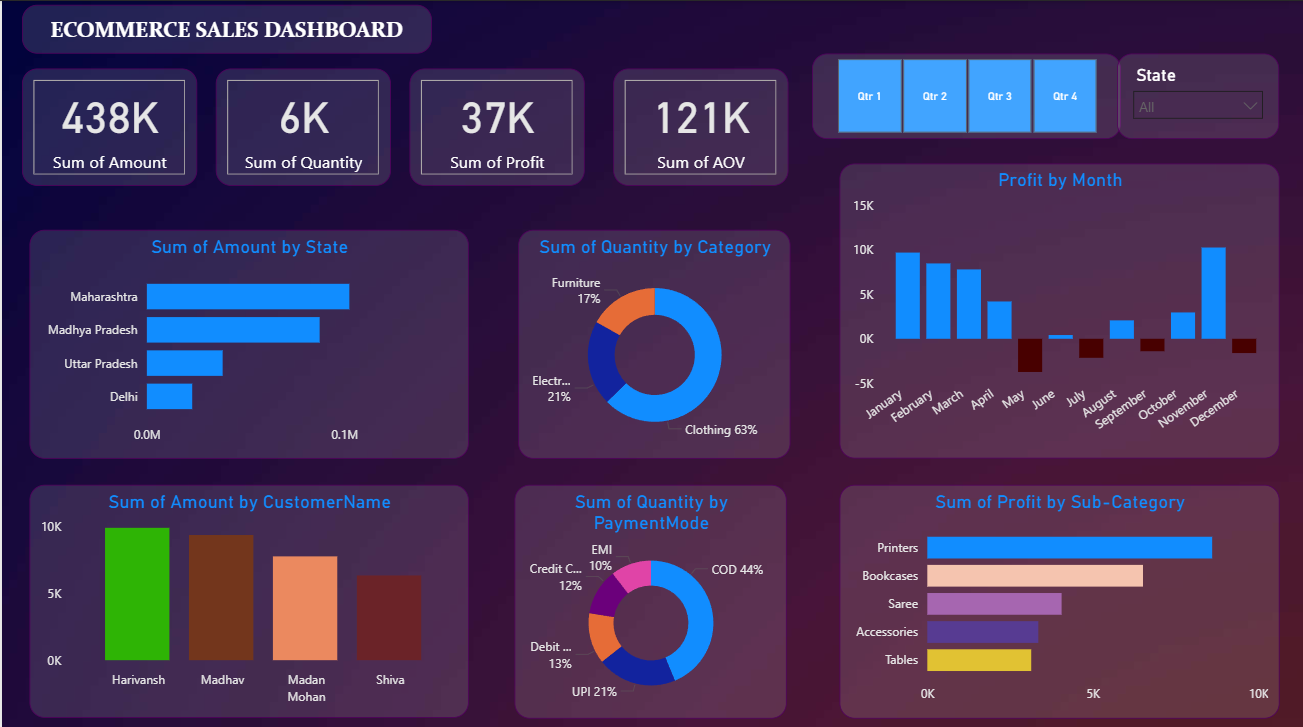

What the dashboard file says about the page in this screenshot:
{"tool":"powerbi","page":{"name":"Page 1","canvas":[1280,720],"ordinal":0},"visuals":[{"type":"textbox","box":[20,4.1,402.1,48],"z":0},{"type":"columnChart","title":"Profit by Month","fields":{"Category":["Orders.Order Date.Variation.Date Hierarchy.Month"],"Y":["Sum(Details.Profit)"]},"box":[822,159.2,432.2,289.5],"z":1000},{"type":"barChart","fields":{"Category":["Details.Sub-Category"],"Y":["Sum(Details.Profit)"]},"box":[822.1,474.8,431.9,229.4],"z":2000},{"type":"donutChart","fields":{"Category":["Details.Category"],"Y":["Sum(Details.Quantity)"]},"box":[506.8,224.5,267.5,224.5],"z":3000},{"type":"donutChart","fields":{"Y":["Sum(Details.Quantity)"],"Category":["Details.PaymentMode"]},"box":[503.1,474.8,267.5,229.4],"z":4000},{"type":"cardVisual","fields":{"Data":["Sum(Details.Amount)"]},"box":[20,66.3,171.8,115.3],"z":5000},{"type":"cardVisual","fields":{"Data":["Sum(Details.Quantity)"]},"box":[210,66.3,171.8,115.3],"z":6000},{"type":"cardVisual","fields":{"Data":["Sum(Details.Profit)"]},"box":[400,66.3,171.8,115.3],"z":7000},{"type":"cardVisual","fields":{"Data":["Sum(Details.AOV)"]},"box":[600,66.3,171.8,115.3],"z":8000},{"type":"barChart","fields":{"Category":["Orders.State"],"Y":["Sum(Details.Amount)"]},"box":[27.4,225,430.9,225],"z":9000},{"type":"columnChart","fields":{"Category":["Orders.CustomerName"],"Y":["Sum(Details.Amount)"]},"box":[27,475,431,229],"z":10000},{"type":"slicer","fields":{"Values":["Orders.Order Date.Variation.Date Hierarchy.Quarter"]},"box":[794.5,52.1,303.3,83.7],"z":10001},{"type":"slicer","fields":{"Values":["Orders.State"]},"box":[1095,52.1,159.2,83.7],"z":10002}]}

Visuals, with their boxes in screenshot pixels (x1, y1, x2, y2), scaled from the page's 1280x720 canvas onto the 1303x727 screenshot:
textbox: select_region(20, 4, 430, 53)
"Profit by Month" columnChart: select_region(837, 161, 1277, 453)
barChart - Details.Sub-Category x Sum(Details.Profit): select_region(837, 479, 1277, 711)
donutChart - Details.Category x Sum(Details.Quantity): select_region(516, 227, 788, 453)
donutChart - Sum(Details.Quantity) x Details.PaymentMode: select_region(512, 479, 784, 711)
cardVisual - Sum(Details.Amount): select_region(20, 67, 195, 183)
cardVisual - Sum(Details.Quantity): select_region(214, 67, 389, 183)
cardVisual - Sum(Details.Profit): select_region(407, 67, 582, 183)
cardVisual - Sum(Details.AOV): select_region(611, 67, 786, 183)
barChart - Orders.State x Sum(Details.Amount): select_region(28, 227, 467, 454)
columnChart - Orders.CustomerName x Sum(Details.Amount): select_region(27, 480, 466, 711)
slicer - Orders.Order Date.Variation.Date Hierarchy.Quarter: select_region(809, 53, 1118, 137)
slicer - Orders.State: select_region(1115, 53, 1277, 137)
